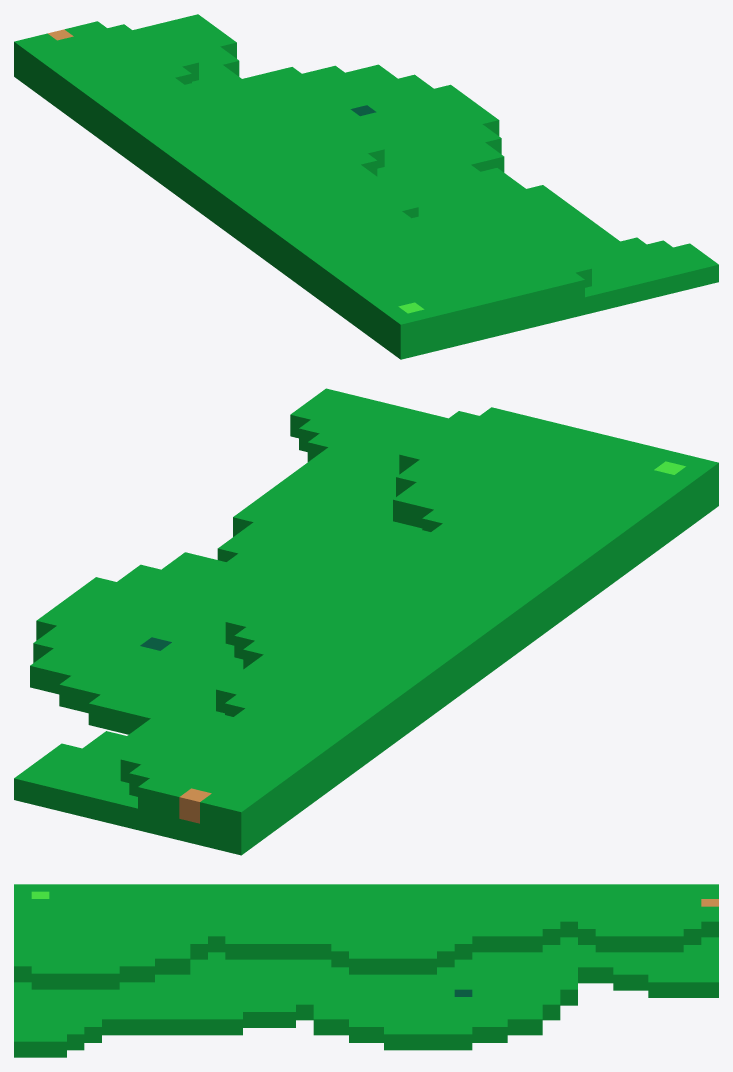
Rendered from plane_corner3.obj.
The picture shows the model from 3 angles, top to bottom: view 1: azimuth 30°, elevation 25°; view 2: azimuth 150°, elevation 25°; view 3: azimuth 270°, elevation 25°; orthographic projection. The views are drawn at different scales.
Size of the model in its own units: 1.9 by 0.2 by 4.
Materials: 1 (1 with a texture image).
